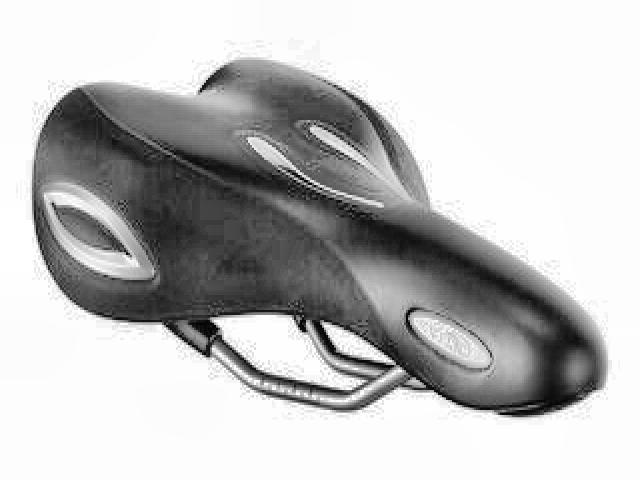saddle: (26, 55, 610, 427)
